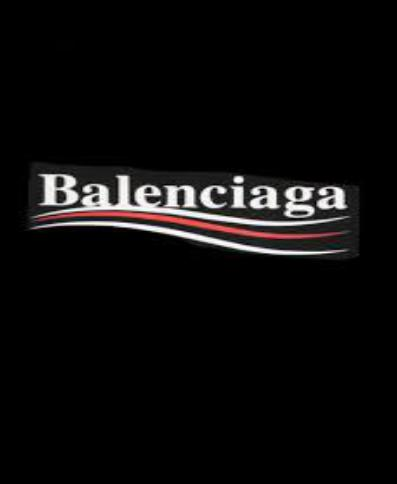BALENCIAGA: (30, 167, 356, 258)
